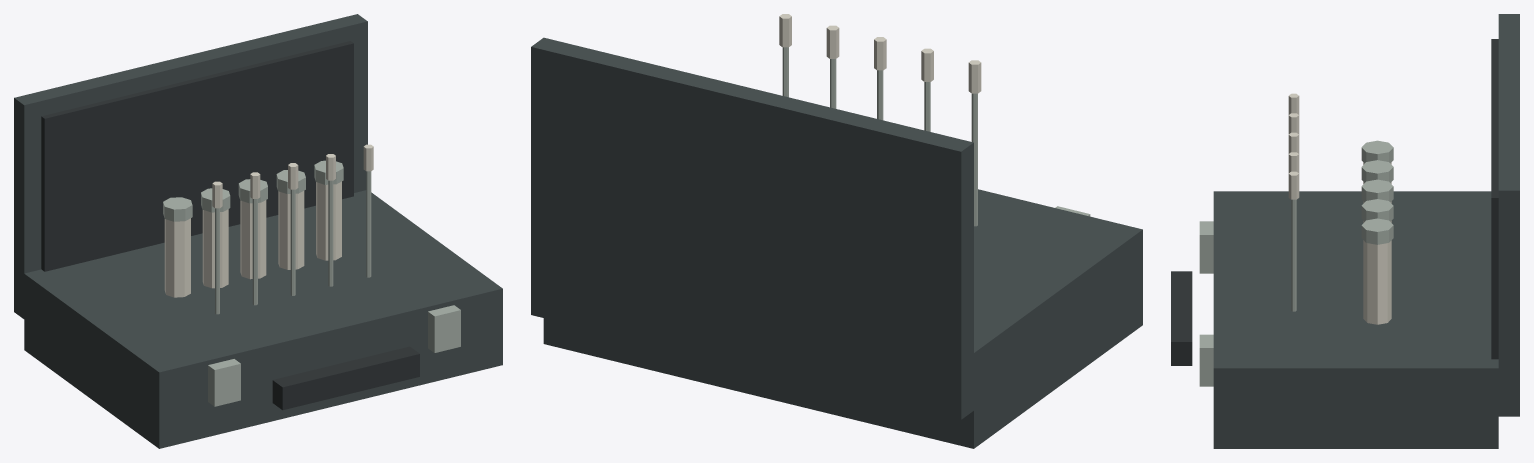
The model's file is blender_ectoplasm_sampler_2_open.glb.
3 views of the same model, side by side, from view 1: azimuth 30°, elevation 25°; view 2: azimuth 150°, elevation 25°; view 3: azimuth 270°, elevation 25° (orthographic). The views are drawn at different scales.
Parts seen in each view (by area): view 1: blender_ectoplasm_sampler_2_open; view 2: blender_ectoplasm_sampler_2_open; view 3: blender_ectoplasm_sampler_2_open.
Part boxes in pixels (box(x1,y1,x2,y2)): blender_ectoplasm_sampler_2_open: box(14, 14, 502, 448); blender_ectoplasm_sampler_2_open: box(531, 14, 1142, 448); blender_ectoplasm_sampler_2_open: box(1171, 14, 1519, 448).
Bounding box in the file's own units: 0.235 × 0.16 × 0.196.
Materials: 1 (1 with a texture image).
